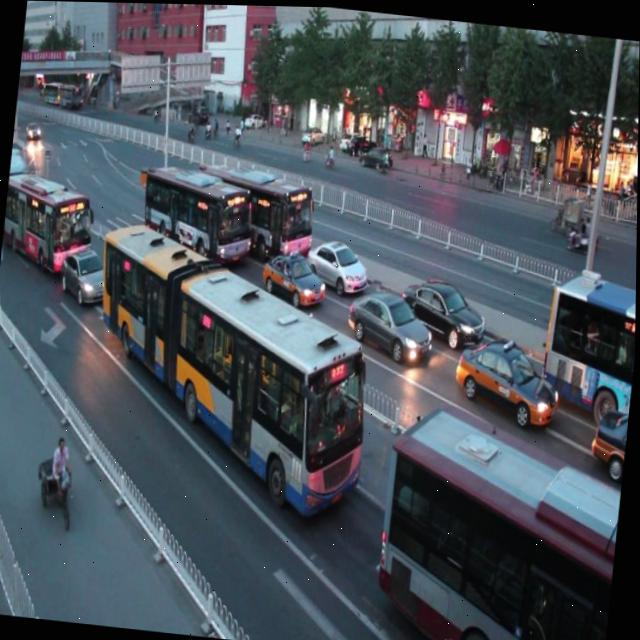car: (450, 330, 563, 435), (341, 280, 432, 367), (399, 271, 489, 349), (256, 242, 327, 311), (301, 229, 369, 298), (58, 242, 116, 309), (589, 393, 631, 476)
van: (77, 213, 385, 521), (374, 399, 628, 640), (538, 262, 637, 417), (135, 153, 257, 275), (195, 153, 319, 266), (1, 163, 96, 267)
